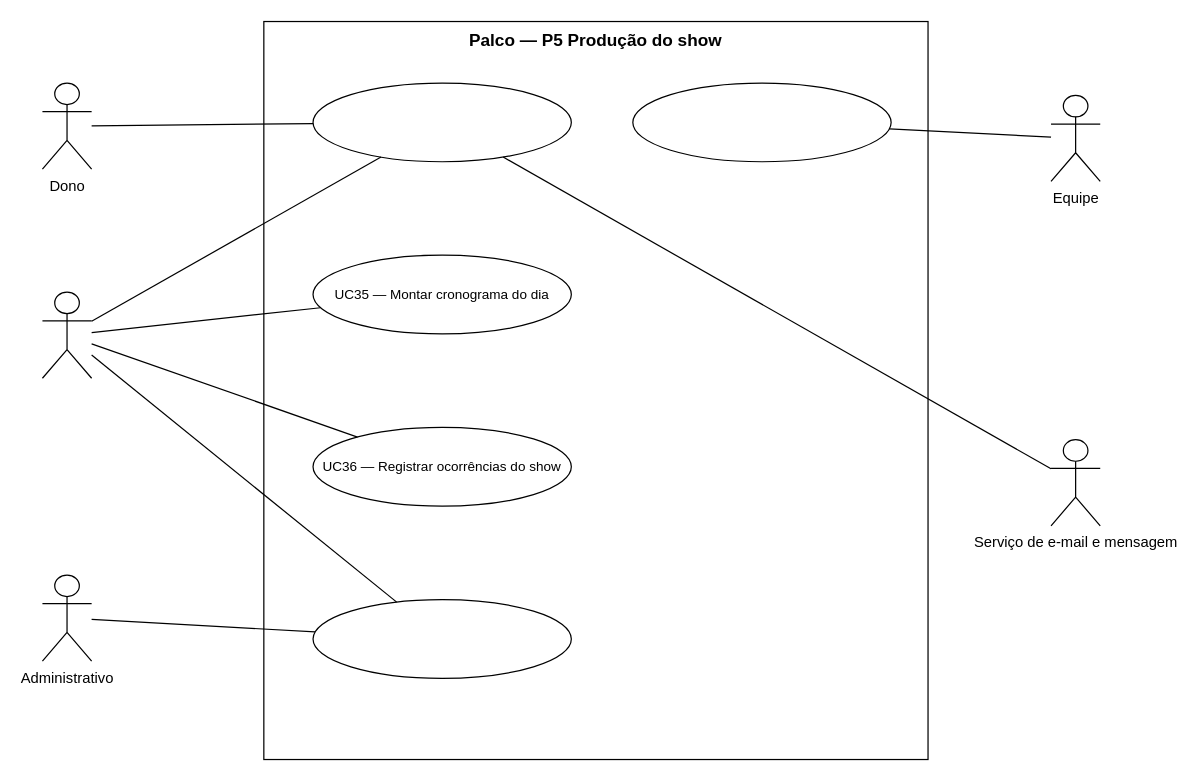
Some shapes in this 1198 by 781 pixel diagram are drawn without their labels. The centre of each missing label's shape, as x and y in pixels:
"Sócio" goes at point 66,334.
"UC33 — Montar escala da equipe" goes at point 441,122.
"UC34 — Confirmar convite da escala" goes at point 761,122.
"UC37 — Lançar despesas e pagamentos da noite" goes at point 441,638.
